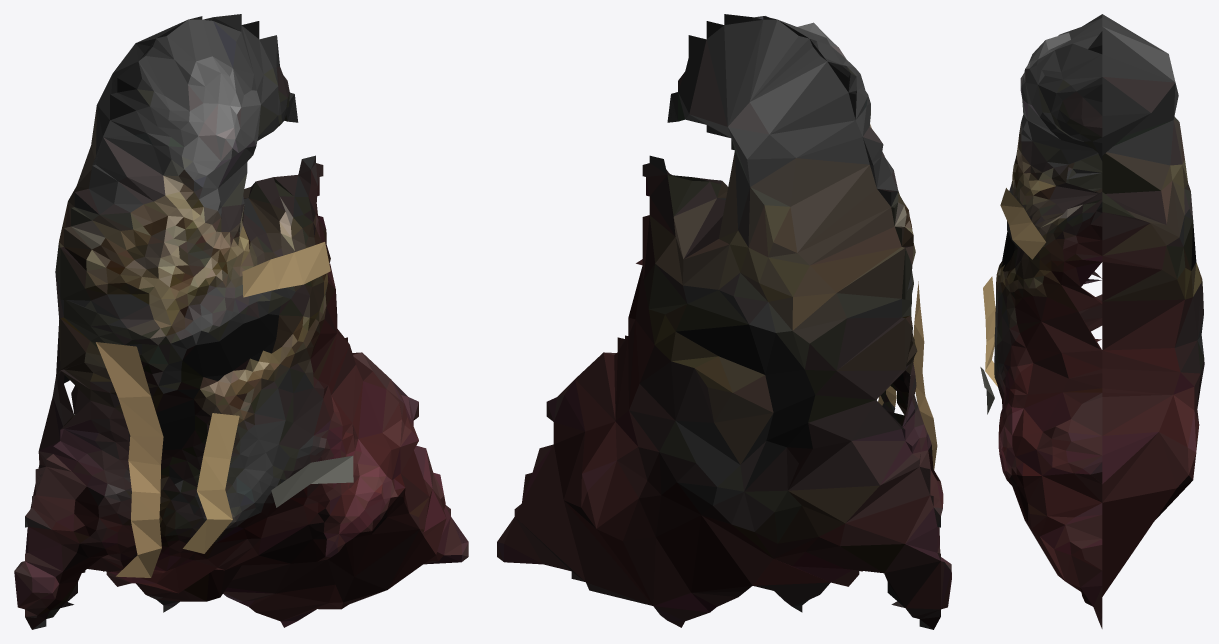
3 views of the same model, side by side, from view 1: azimuth 30°, elevation 25°; view 2: azimuth 150°, elevation 25°; view 3: azimuth 270°, elevation 25° (orthographic). The views are drawn at different scales.
Parts seen in each view (by area): view 1: object 2, detail; view 2: object 2, detail; view 3: object 2, detail.
Part boxes in pixels (x1,y1,x2,y2): object 2: [14, 14, 468, 629]; detail: [96, 242, 353, 577]; object 2: [497, 14, 951, 629]; detail: [878, 281, 937, 469]; object 2: [994, 14, 1204, 628]; detail: [980, 188, 1045, 414].
Bounding box in the file's own units: 128 × 170 × 66.37.
